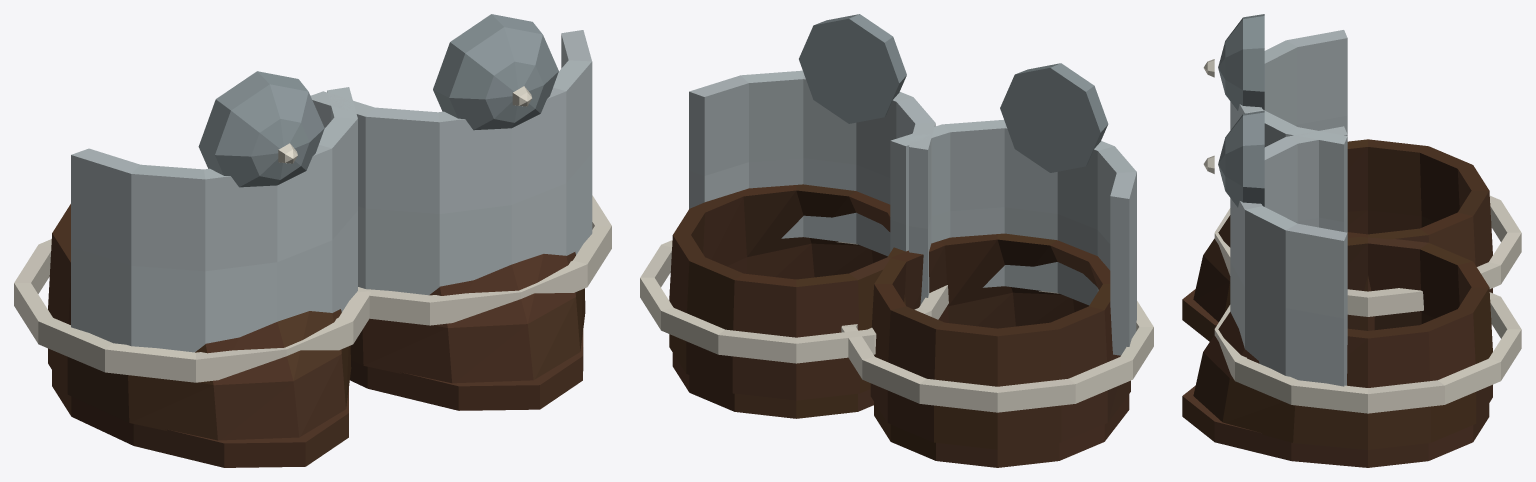
File: armor_feet_greaves.glb
3 renders of one model, left to right at view 1: azimuth 30°, elevation 25°; view 2: azimuth 150°, elevation 25°; view 3: azimuth 270°, elevation 25°, orthographic. The views are drawn at different scales.
Visible parts, largest first — view 1: armor_feet_greaves_R, armor_feet_greaves; view 2: armor_feet_greaves_R, armor_feet_greaves; view 3: armor_feet_greaves, armor_feet_greaves_R.
Part boxes in pixels (x1,y1,x2,y2): armor_feet_greaves_R: [14, 71, 370, 467]; armor_feet_greaves: [310, 14, 611, 410]; armor_feet_greaves_R: [841, 63, 1153, 467]; armor_feet_greaves: [640, 14, 948, 418]; armor_feet_greaves: [1182, 110, 1521, 467]; armor_feet_greaves_R: [1182, 14, 1521, 341].
Bounding box in the file's own units: 0.75 × 0.47 × 0.475.
